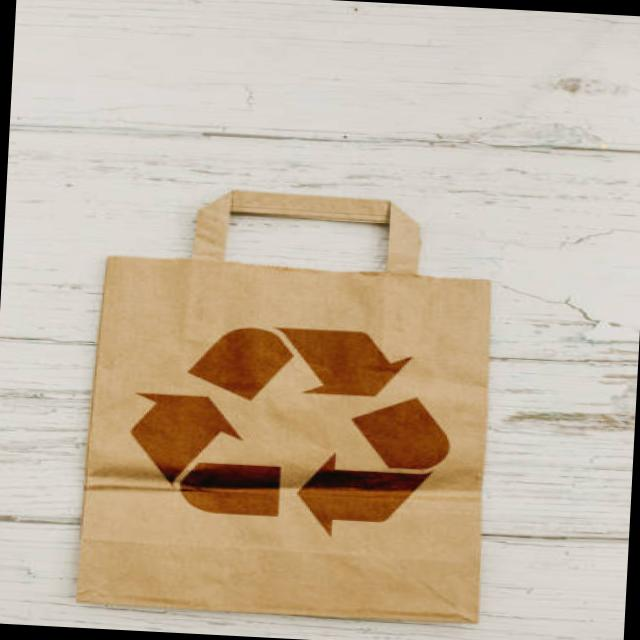electronic: (74, 182, 501, 626)
